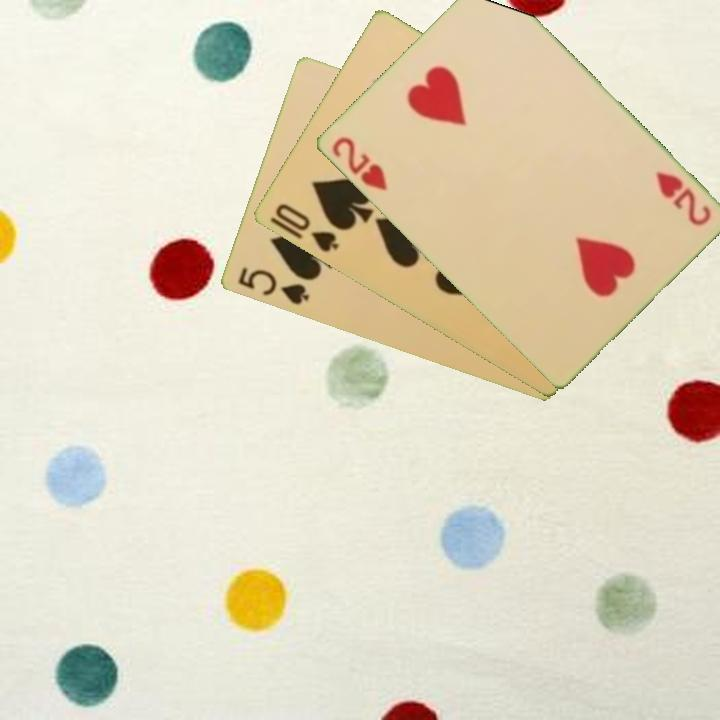10s: (271, 200, 342, 256)
2h: (327, 133, 390, 195), (651, 167, 714, 229)
5s: (233, 264, 312, 308)
